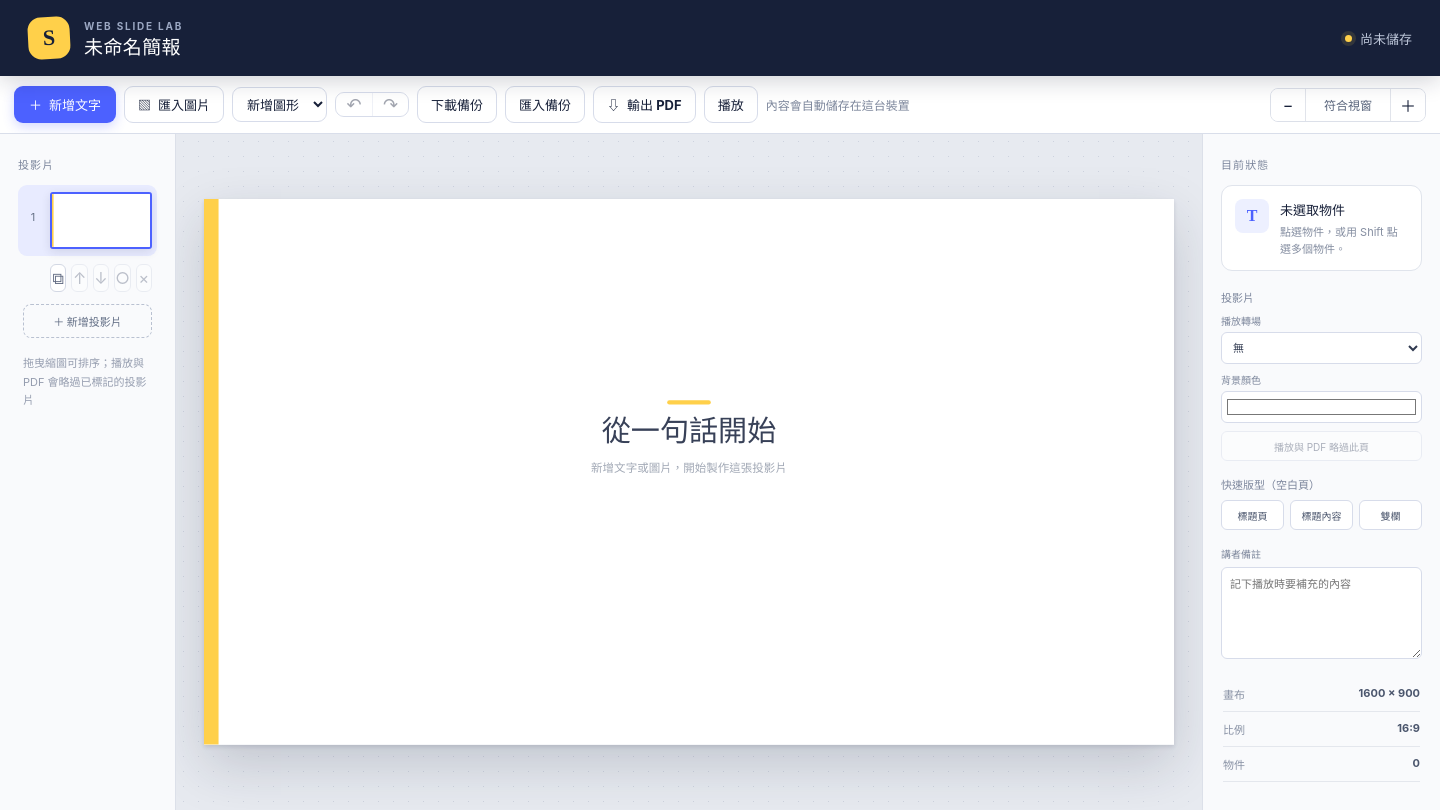
Scenario: App › adds and switches between slides without sharing their elements
Check: the button "＋ 新增文字" is enabled, box [14,86,116,123]
Click the button "＋ 新增投影片" at coordinates (88, 321), box [23,304,152,338]
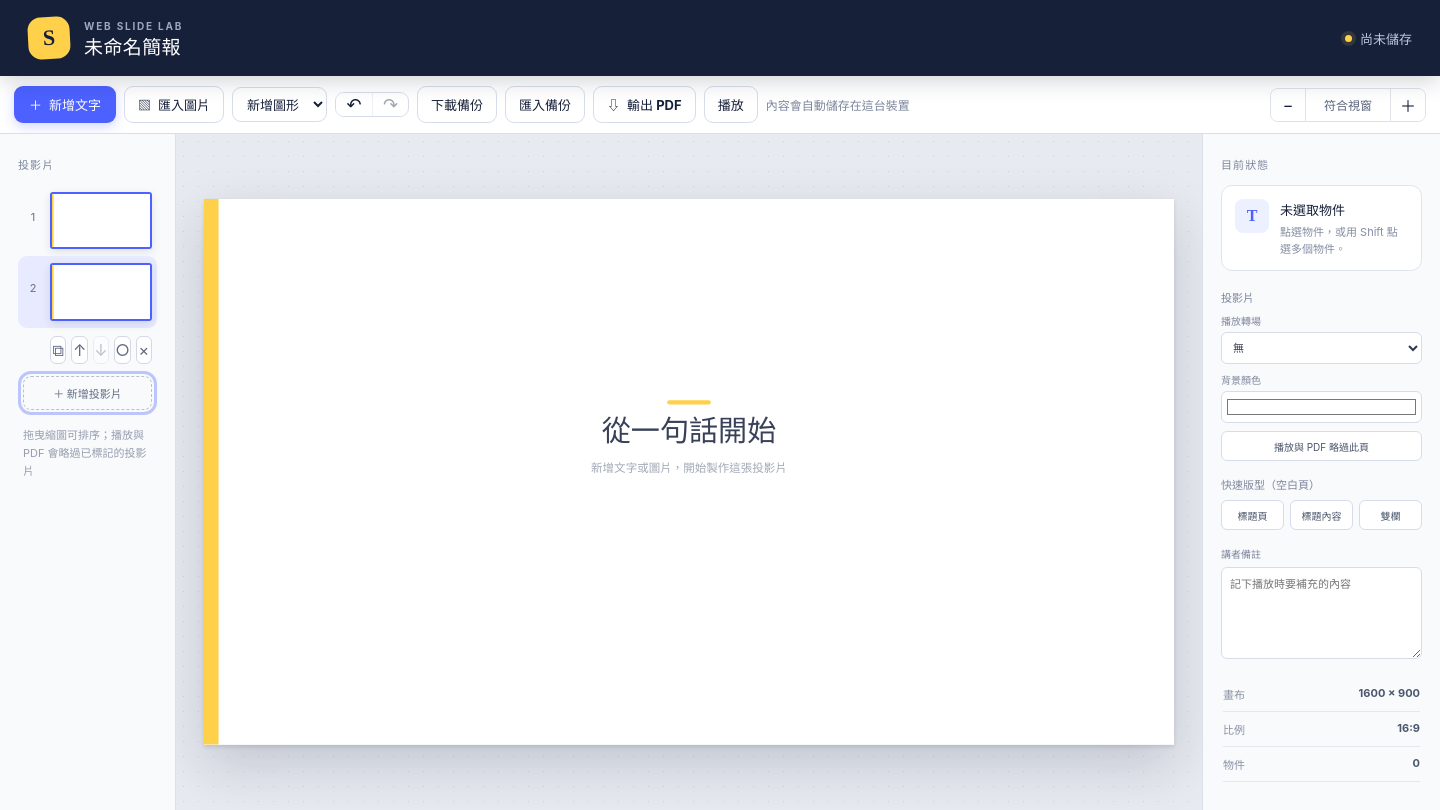
Click the button "＋ 新增文字" at coordinates (65, 104), box [14,86,116,123]
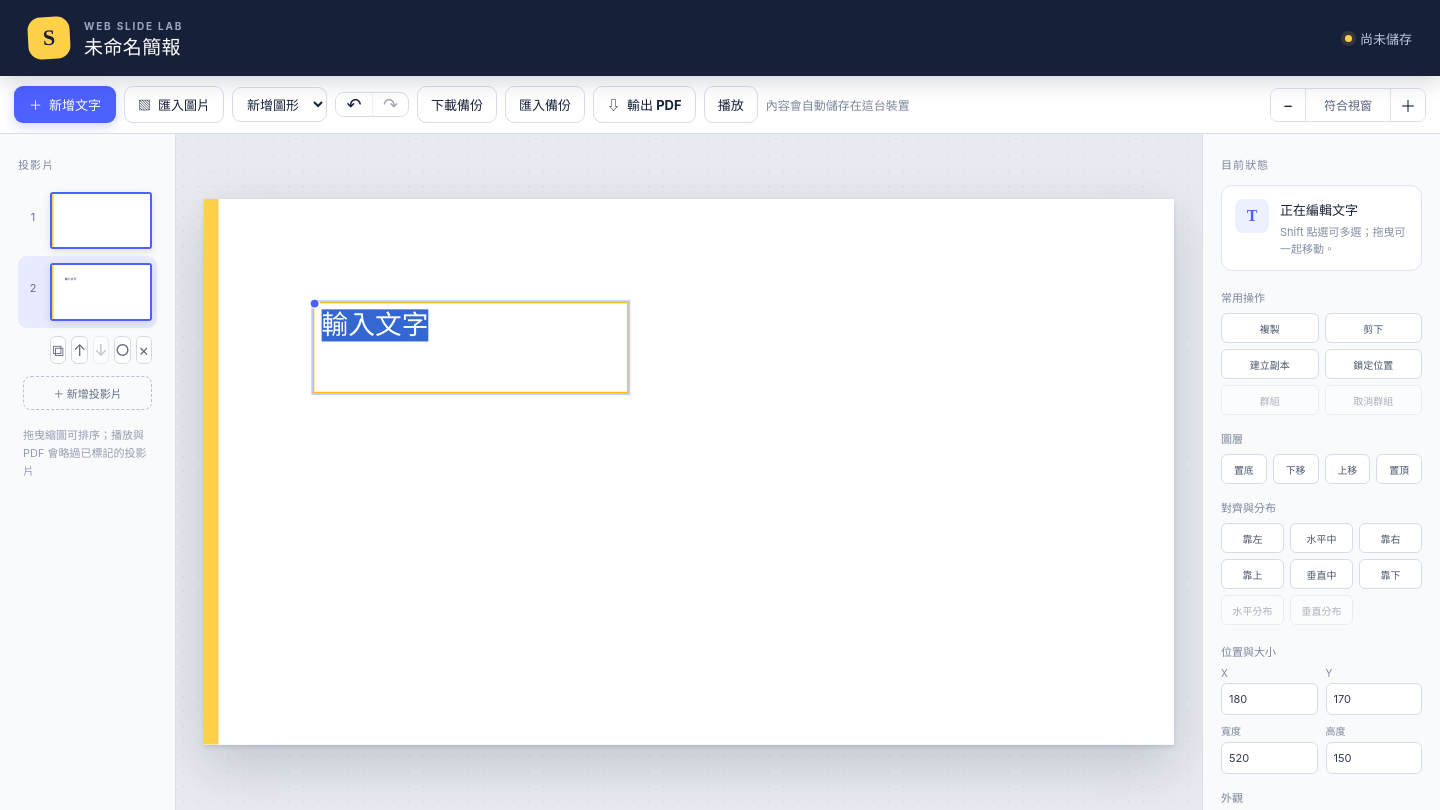
Check: the text box named "文字內容" is shown, box [314,304,627,392]
Click the button named "投影片 1" at coordinates (88, 221), box [18,185,157,256]
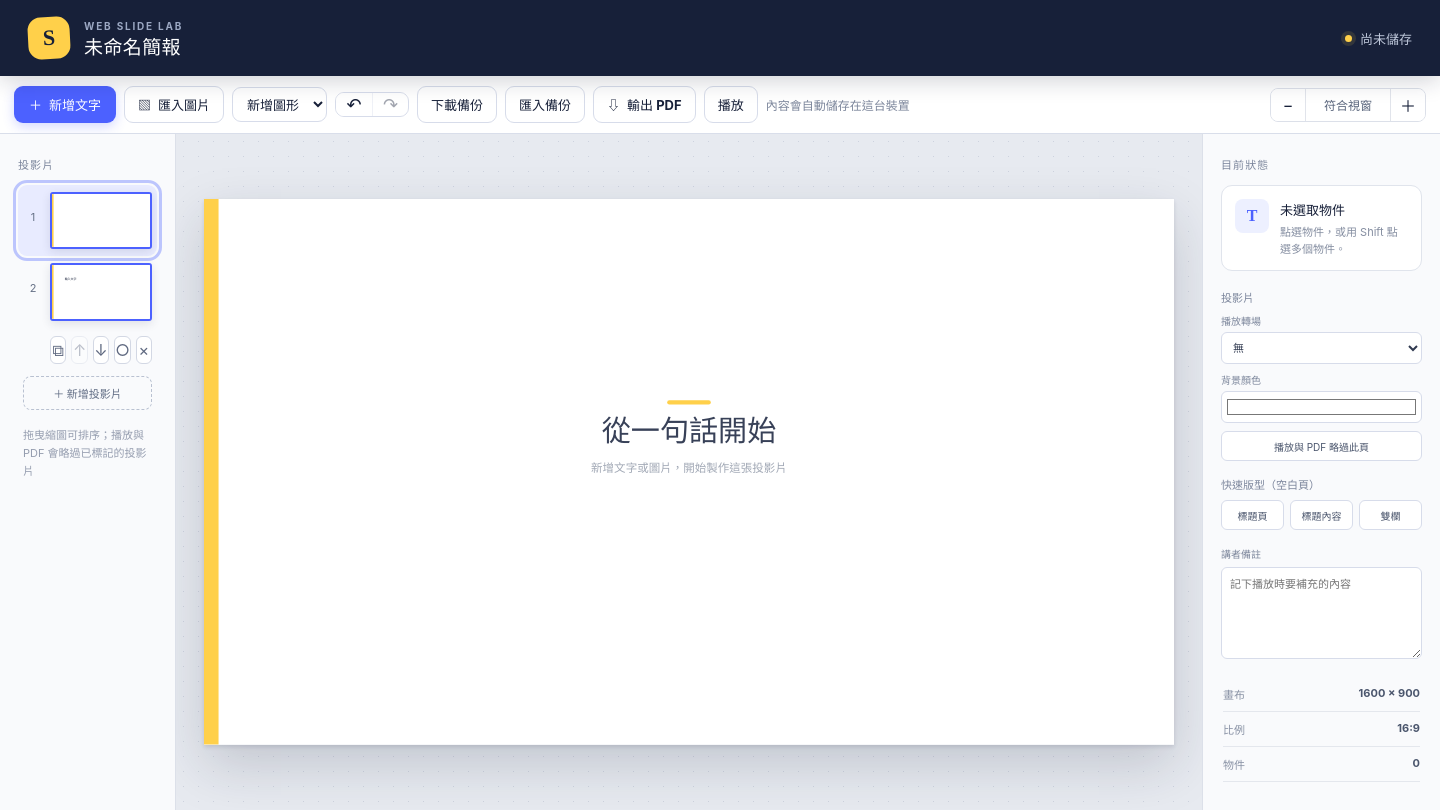
Check: the text box labelled "文字內容" is gone
Click the button with aria-label "投影片 2" at coordinates (88, 292), box [18,256,157,328]
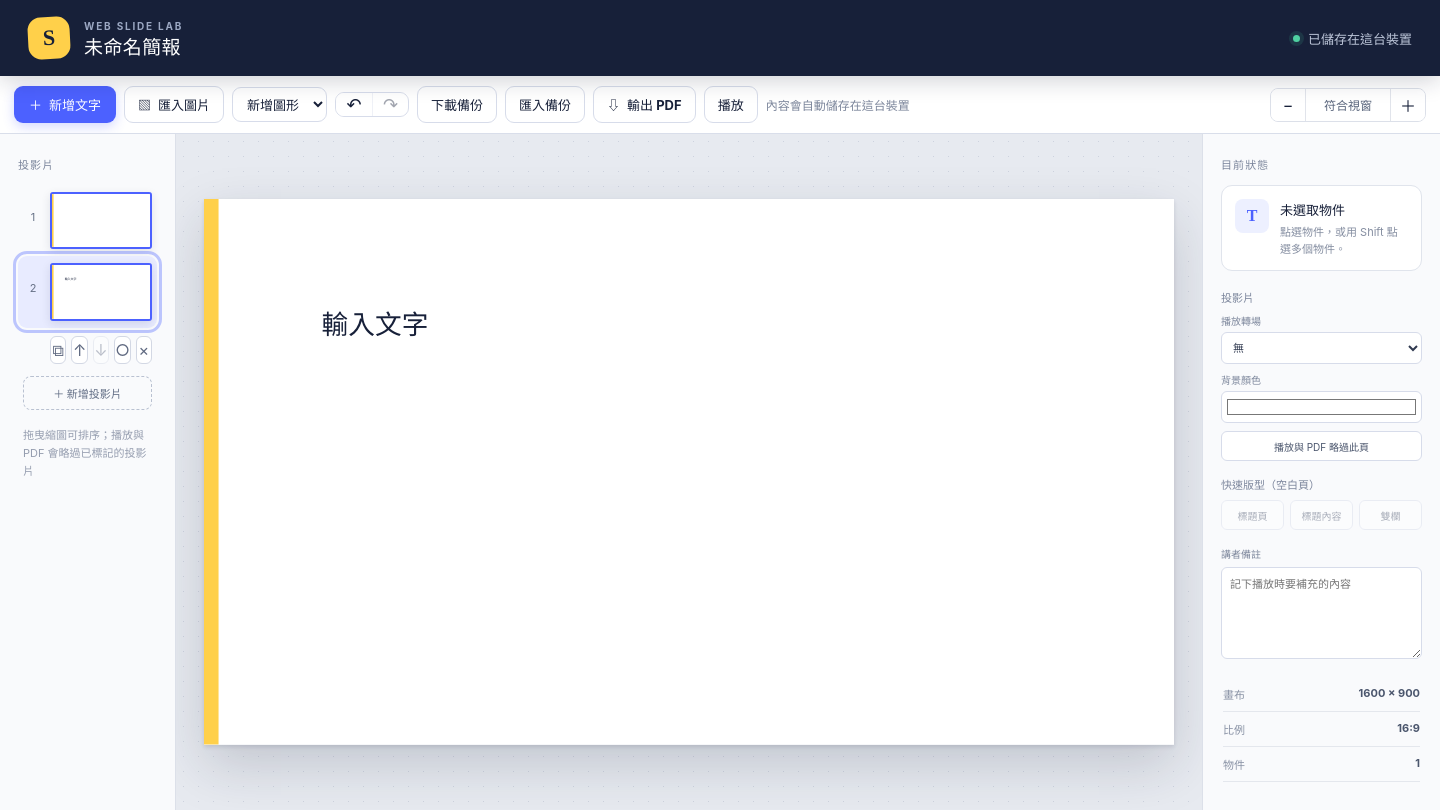
Check: the text box named "文字內容" is shown, box [314,304,627,392]
